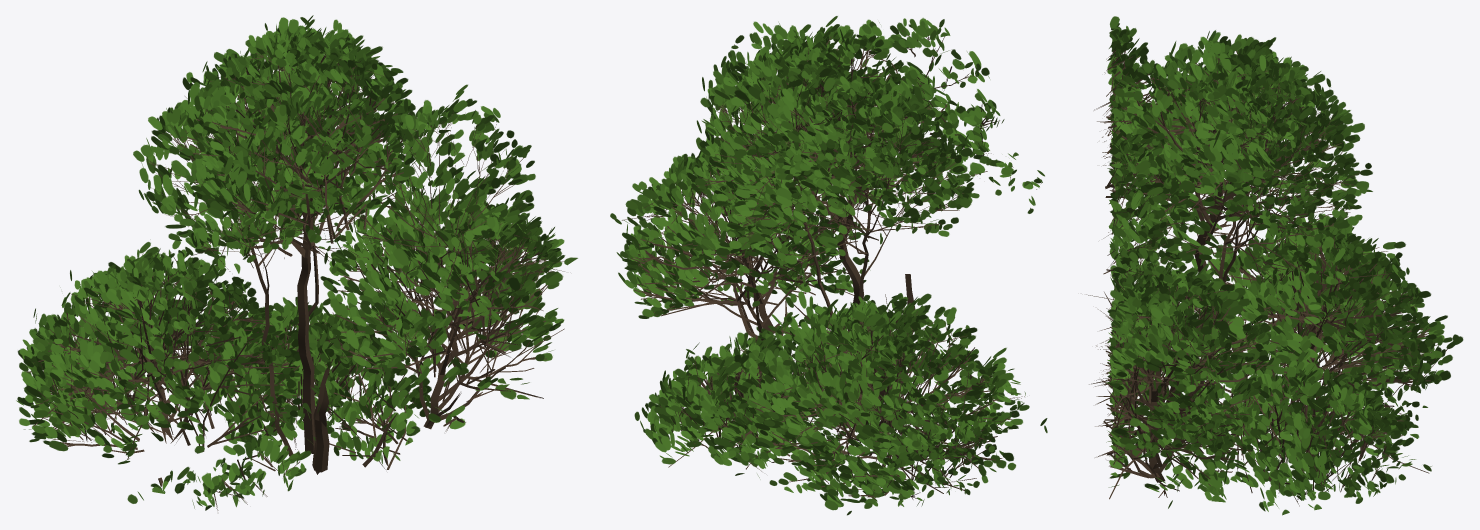
3 views of the same model, side by side, from view 1: azimuth 30°, elevation 25°; view 2: azimuth 150°, elevation 25°; view 3: azimuth 270°, elevation 25° (orthographic). The views are drawn at different scales.
Visible parts, largest first — view 1: oak 01.001_trunk_Mat.001_0.437; view 2: oak 01.001_trunk_Mat.001_0.437; view 3: oak 01.001_trunk_Mat.001_0.437.
Part boxes in pixels (bbox=[...]): oak 01.001_trunk_Mat.001_0.437: bbox=[16, 15, 577, 510]; oak 01.001_trunk_Mat.001_0.437: bbox=[610, 16, 1047, 515]; oak 01.001_trunk_Mat.001_0.437: bbox=[1086, 16, 1463, 515].
Bounding box in the file's own units: 5.88 × 4.99 × 4.14.
Materials: 2 (1 with a texture image).
